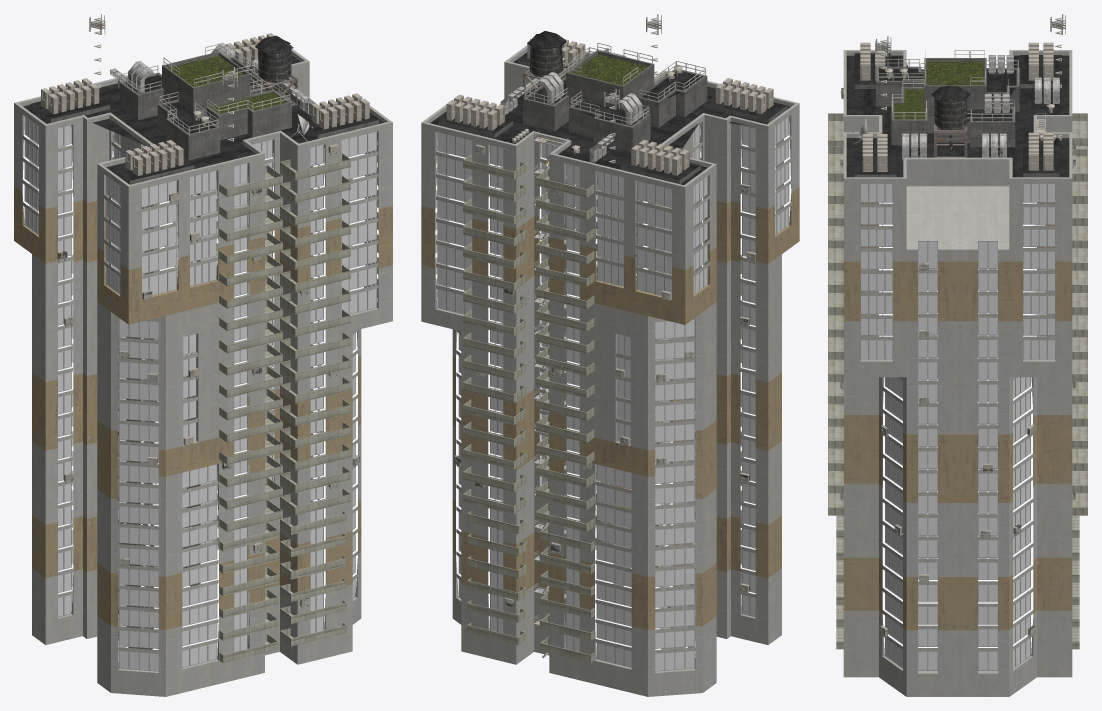
The model's file is KB3D_NEC_BldgMD_B_Main.glb.
3 renders of one model, left to right at view 1: azimuth 30°, elevation 25°; view 2: azimuth 150°, elevation 25°; view 3: azimuth 270°, elevation 25°, orthographic.
Parts seen in each view (by area): view 1: KB3D_NEC_BldgMD_B_Main; view 2: KB3D_NEC_BldgMD_B_Main; view 3: KB3D_NEC_BldgMD_B_Main.
Part boxes in pixels (x1,y1,x2,y2): KB3D_NEC_BldgMD_B_Main: (14,14,392,696); KB3D_NEC_BldgMD_B_Main: (421,14,799,696); KB3D_NEC_BldgMD_B_Main: (828,14,1087,696).
Size of the model in its own units: 26.78 by 57.01 by 22.81.
14 materials, 13 textured.
